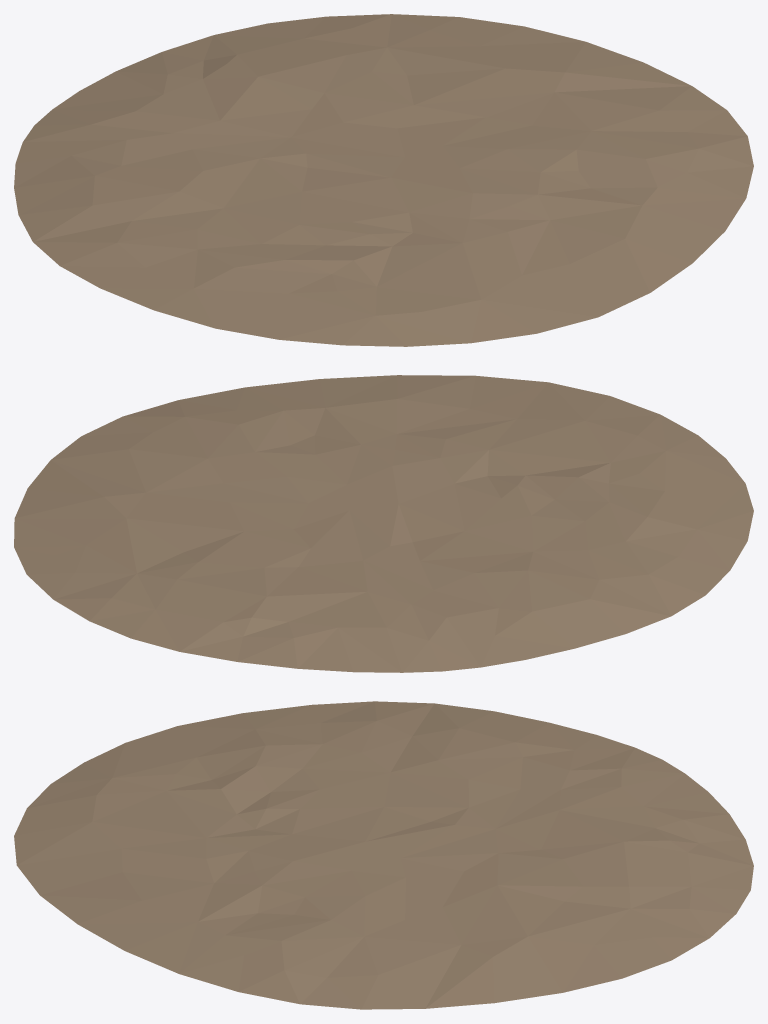
The model's file is SM_Env_Ground_Round_04.fbx.
The picture shows the model from 3 angles, top to bottom: view 1: azimuth 30°, elevation 25°; view 2: azimuth 150°, elevation 25°; view 3: azimuth 270°, elevation 25°; orthographic projection. The views are drawn at different scales.
Visible parts, largest first — view 1: SM_Env_Ground_Round_04; view 2: SM_Env_Ground_Round_04; view 3: SM_Env_Ground_Round_04.
Part boxes in pixels (x1=…): SM_Env_Ground_Round_04: x1=14, y1=14, x2=753, y2=346; SM_Env_Ground_Round_04: x1=14, y1=375, x2=753, y2=672; SM_Env_Ground_Round_04: x1=14, y1=701, x2=753, y2=1009.
Size of the model in its own units: 3643 by 73.03 by 3696.
